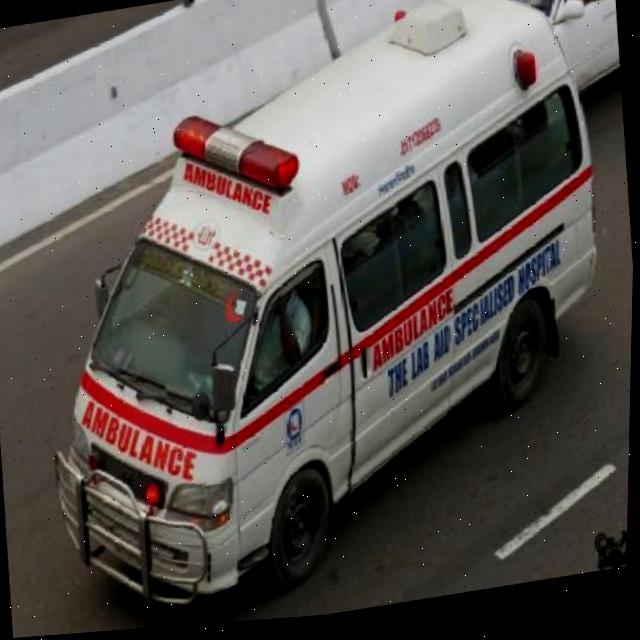emergency: (17, 0, 633, 632)
